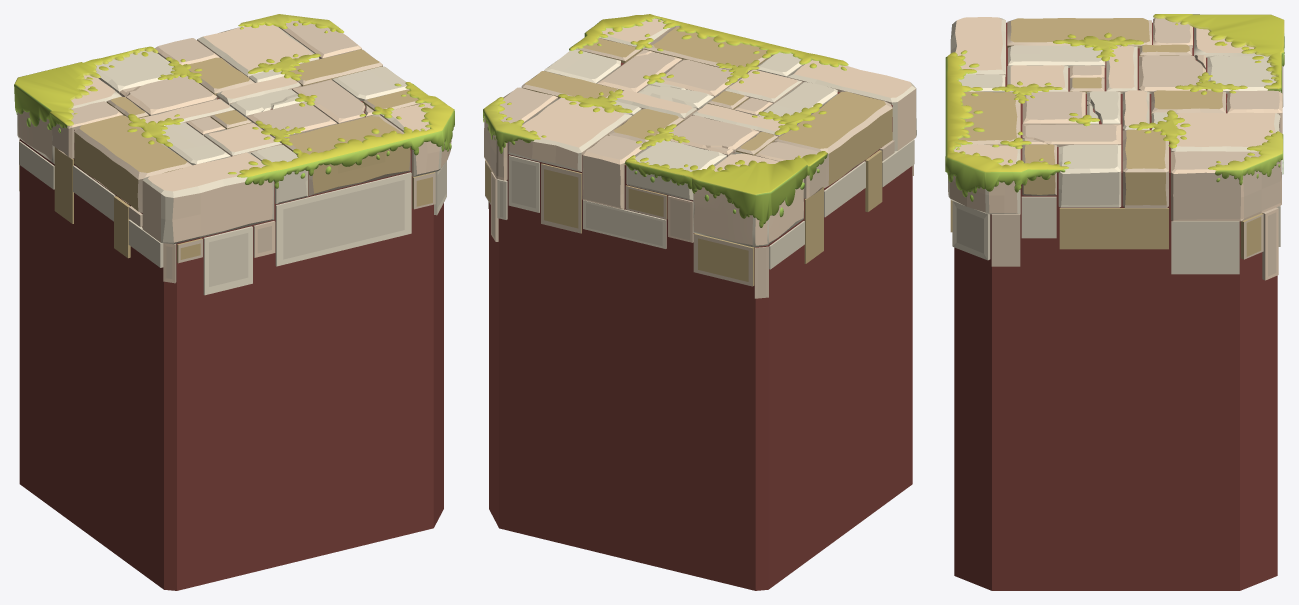
Rendered from SM_Platform.fbx.
The picture shows the model from 3 angles, left to right: view 1: azimuth 30°, elevation 25°; view 2: azimuth 150°, elevation 25°; view 3: azimuth 270°, elevation 25°; orthographic projection. The views are drawn at different scales.
Visible parts, largest first — view 1: Platform; view 2: Platform; view 3: Platform.
Boxes of the visible parts, x1,y1,x2,y2 form: Platform: (14, 14, 454, 590); Platform: (483, 14, 916, 590); Platform: (945, 14, 1284, 590).
Size of what is drawn, in the model's own units: 2204 by 2752 by 1994.
